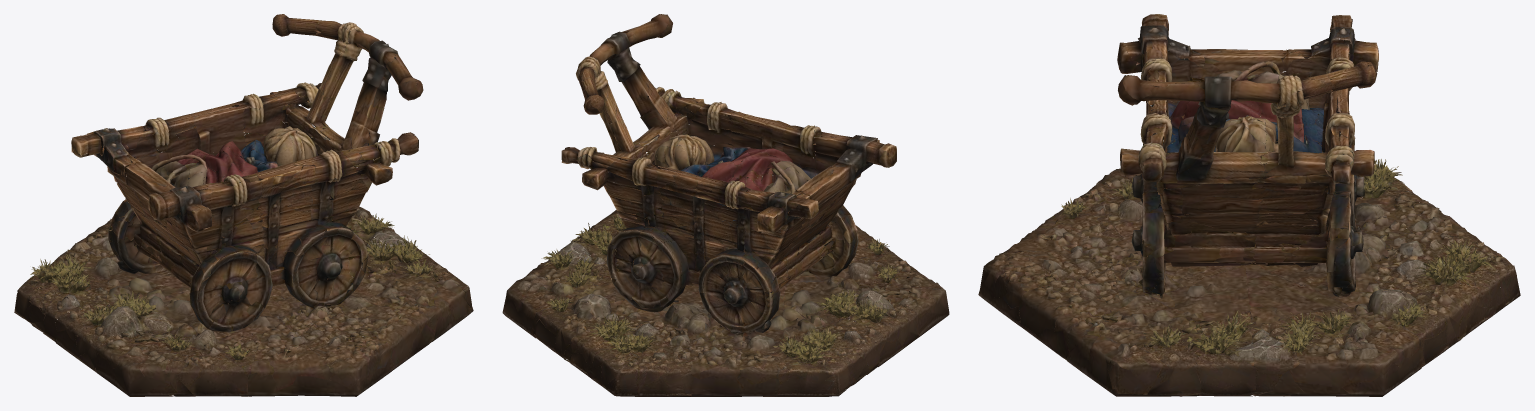
File: carro.glb
3 renders of one model, left to right at view 1: azimuth 30°, elevation 25°; view 2: azimuth 150°, elevation 25°; view 3: azimuth 270°, elevation 25°, orthographic. The views are drawn at different scales.
Parts seen in each view (by area): view 1: Mesh_0; view 2: Mesh_0; view 3: Mesh_0.
Boxes of the visible parts, x1=… form: Mesh_0: x1=14, y1=14, x2=473, y2=396; Mesh_0: x1=502, y1=14, x2=949, y2=396; Mesh_0: x1=978, y1=14, x2=1520, y2=396.
Size of the model in its own units: 1.66 by 1.15 by 1.9.
Materials: 1 (1 with a texture image).
